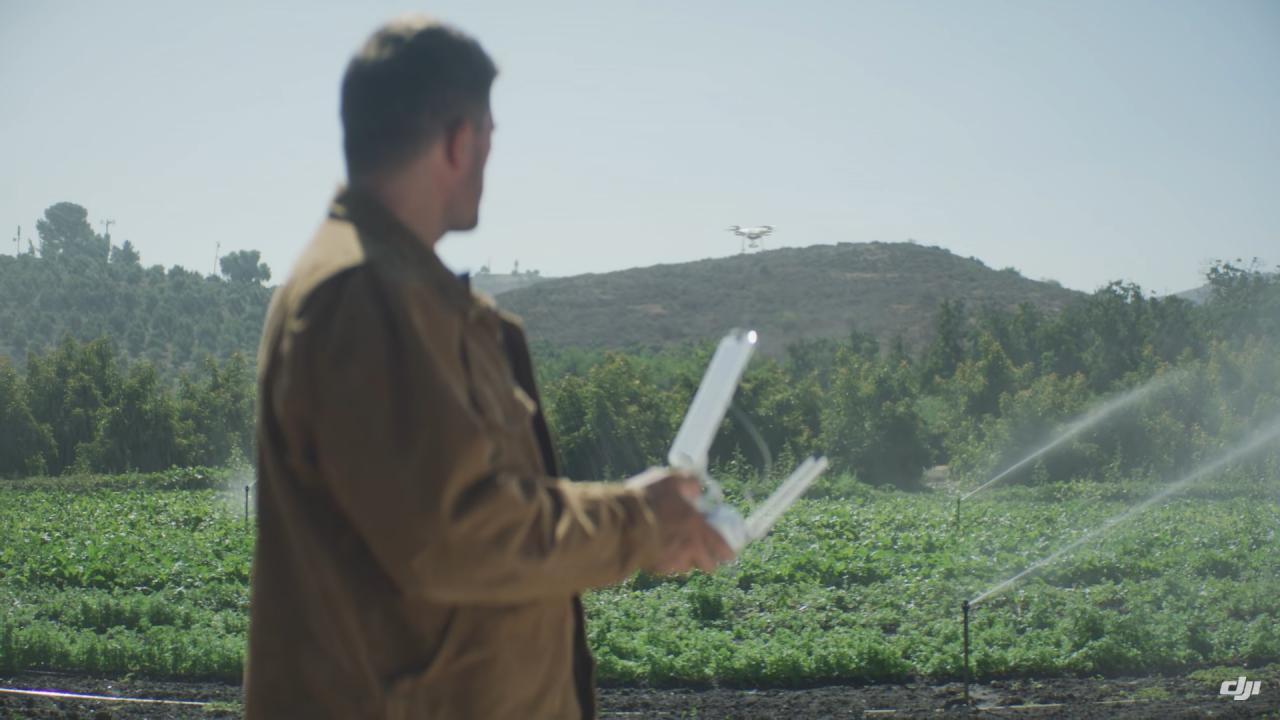Drone: (721, 214, 784, 260)
